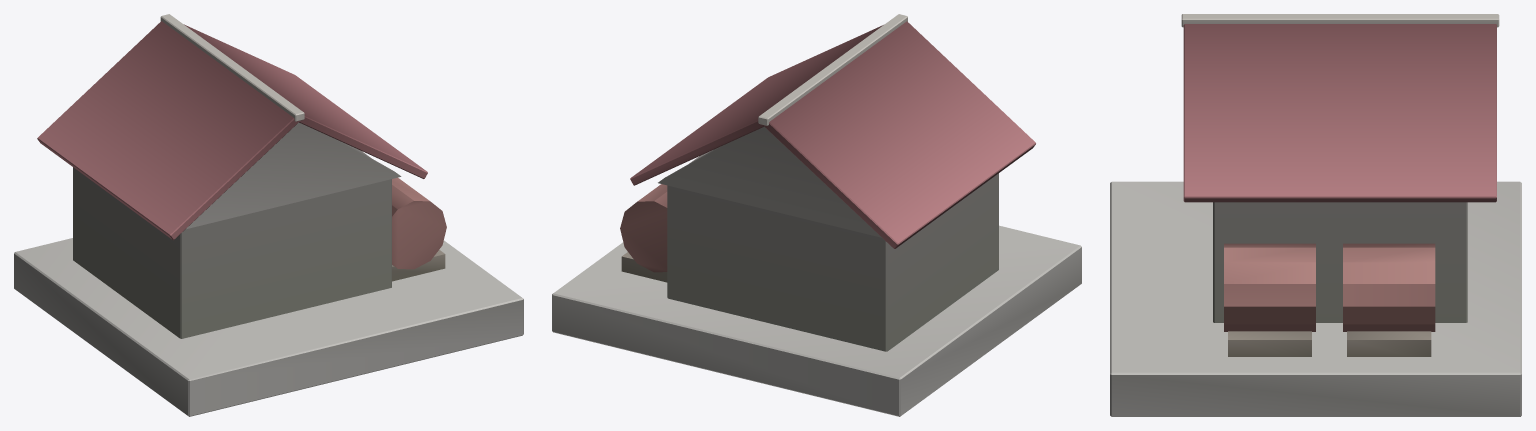
File: winery_l1_lod2.glb
3 renders of one model, left to right at view 1: azimuth 30°, elevation 25°; view 2: azimuth 150°, elevation 25°; view 3: azimuth 270°, elevation 25°, orthographic. The views are drawn at different scales.
Visible parts, largest first — view 1: winery_l1_lod2; view 2: winery_l1_lod2; view 3: winery_l1_lod2.
Part boxes in pixels (bbox=[...]): winery_l1_lod2: bbox=[14, 14, 523, 416]; winery_l1_lod2: bbox=[552, 14, 1081, 416]; winery_l1_lod2: bbox=[1110, 14, 1521, 416].
Bounding box in the file's own units: 8.4 × 5.91 × 7.6.
